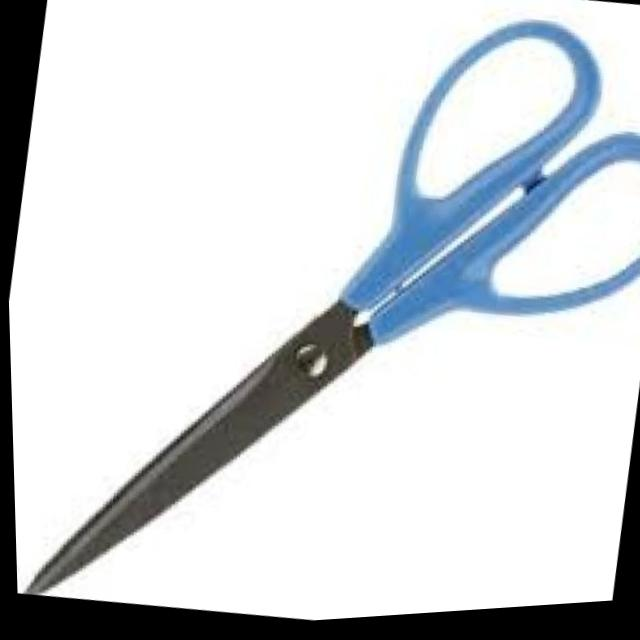scissor: (2, 0, 640, 640)
